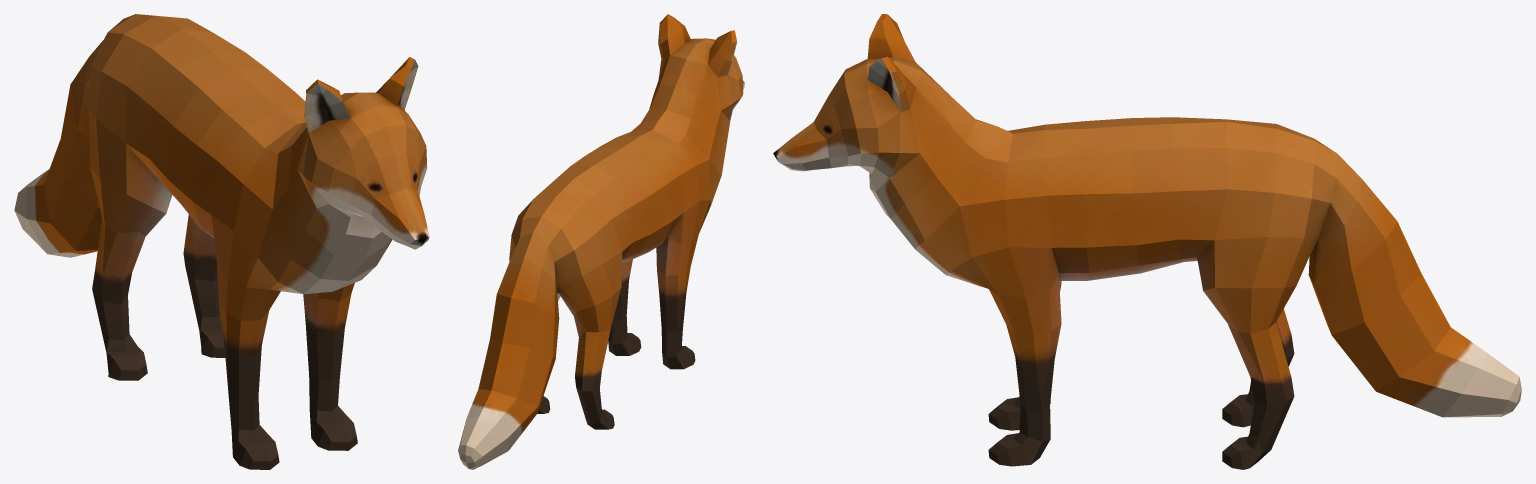
Rendered from animals-fox-097.glb.
3 views of the same model, side by side, from view 1: azimuth 30°, elevation 25°; view 2: azimuth 150°, elevation 25°; view 3: azimuth 270°, elevation 25° (orthographic). The views are drawn at different scales.
Visible parts, largest first — view 1: Fox_Mesh; view 2: Fox_Mesh; view 3: Fox_Mesh.
Part boxes in pixels (x1,y1,x2,y2): Fox_Mesh: [14, 14, 429, 469]; Fox_Mesh: [458, 14, 744, 469]; Fox_Mesh: [773, 14, 1521, 469].
Size of the model in its own units: 1.28 by 3.84 by 6.44.
Materials: 1 (1 with a texture image).
